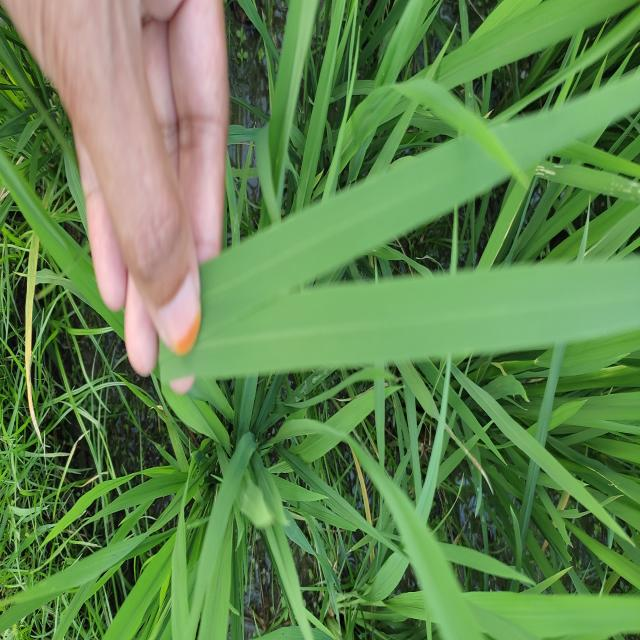HealthyLeaf: (202, 77, 639, 373)
